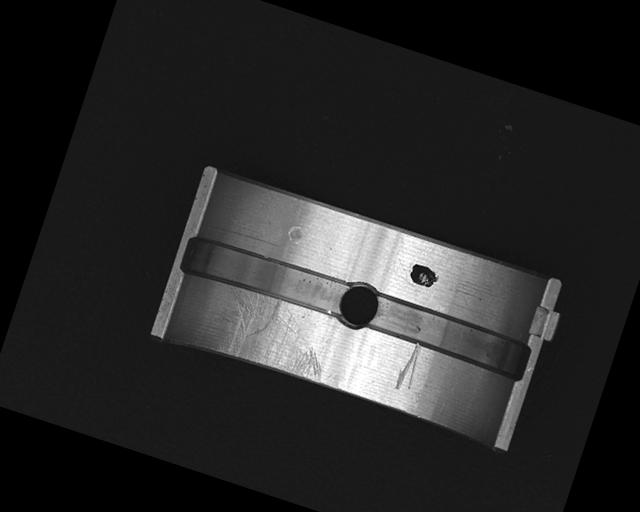blot: (407, 260, 442, 290)
bruise: (285, 223, 304, 245)
gap: (177, 230, 352, 324), (368, 293, 533, 380)
hole: (333, 276, 384, 334)
nick: (392, 338, 426, 393)
scratch: (213, 284, 340, 386)
